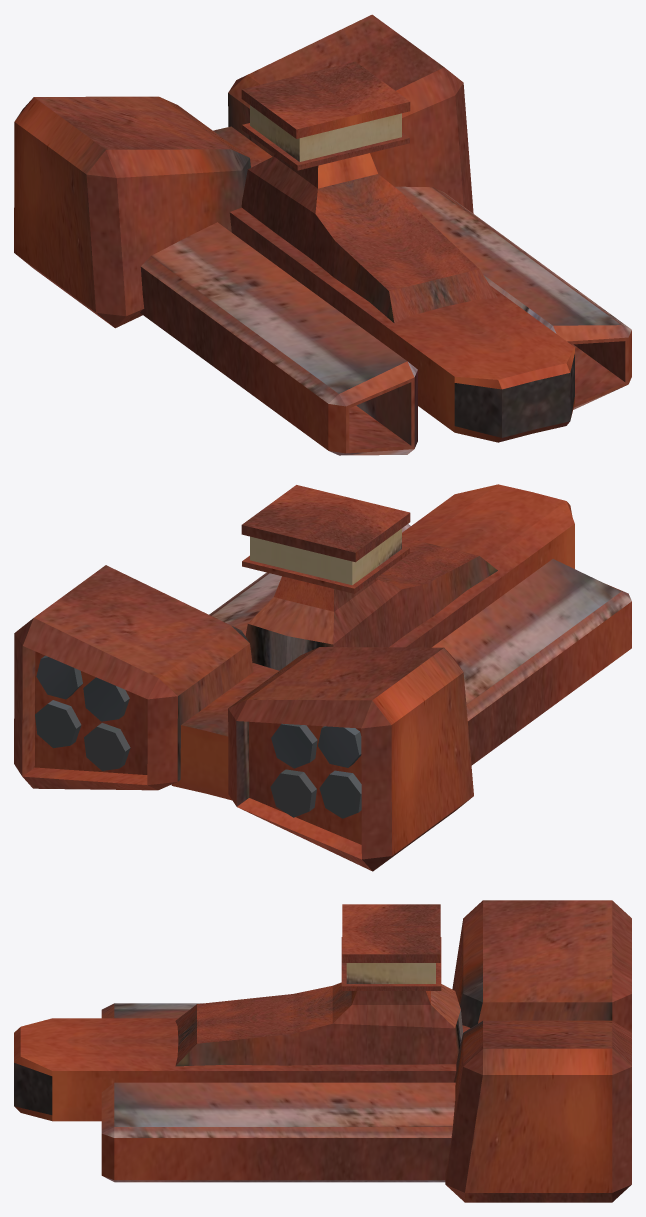
File: military_ship.obj
The picture shows the model from 3 angles, top to bottom: view 1: azimuth 30°, elevation 25°; view 2: azimuth 150°, elevation 25°; view 3: azimuth 270°, elevation 25°; orthographic projection. The views are drawn at different scales.
Parts seen in each view (by area): view 1: Cube; view 2: Cube; view 3: Cube.
Boxes of the visible parts, left/top/right/bottom form: Cube: left=14, top=14, right=631, bottom=455; Cube: left=14, top=484, right=631, bottom=871; Cube: left=14, top=900, right=631, bottom=1202.
Size of the model in its own units: 14.36 by 8.3 by 22.64.
